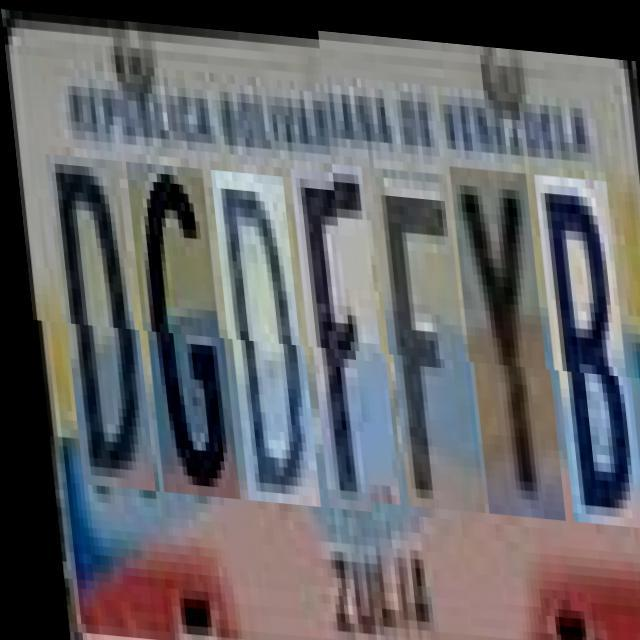B: (536, 173, 636, 525)
D: (46, 154, 146, 488), (212, 167, 310, 500)
F: (372, 169, 476, 513), (292, 164, 392, 506)
G: (127, 160, 230, 494)
Y: (452, 167, 556, 519)
